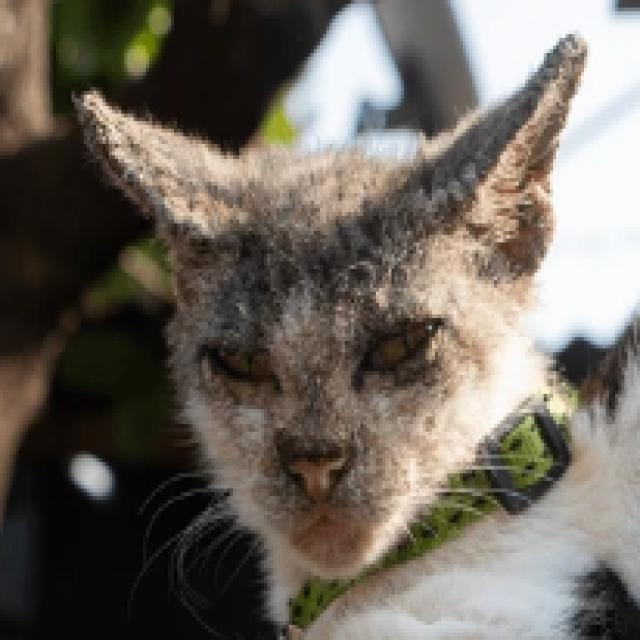Mange: (83, 89, 212, 238), (196, 363, 276, 403), (295, 350, 352, 400), (371, 358, 448, 392), (228, 276, 261, 340), (431, 176, 488, 211)
